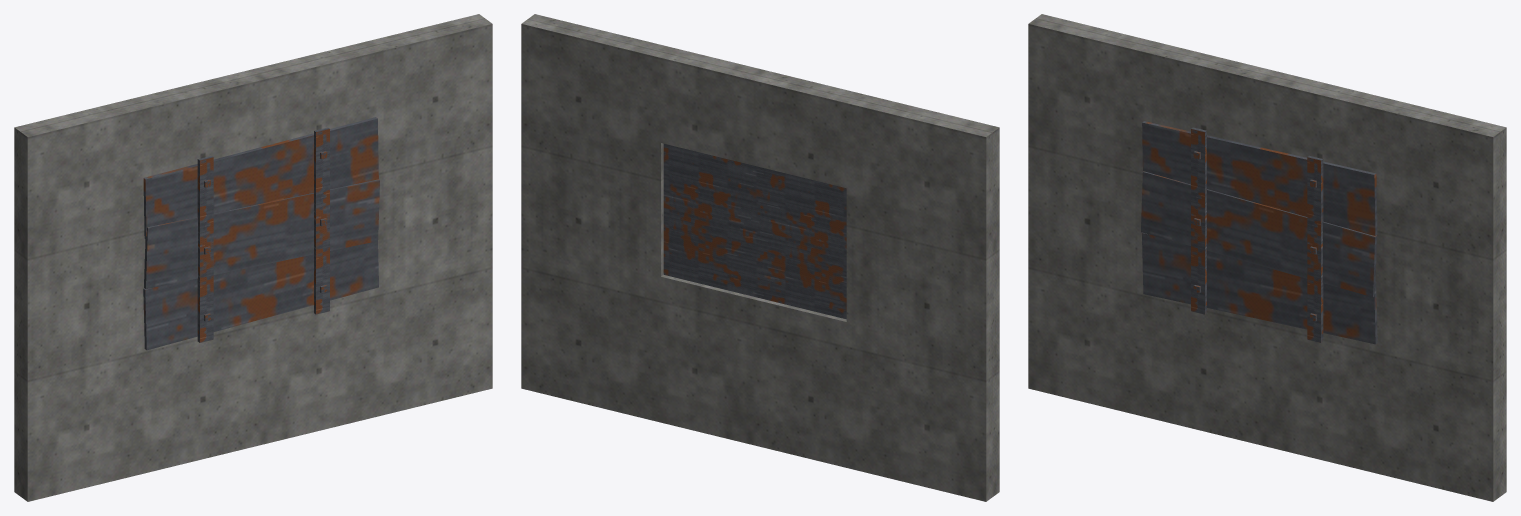
The model's file is Wall_Window_Barricaded.fbx.
3 renders of one model, left to right at view 1: azimuth 30°, elevation 25°; view 2: azimuth 150°, elevation 25°; view 3: azimuth 330°, elevation 25°, orthographic.
Visible parts, largest first — view 1: Wall_Window_Barricaded; view 2: Wall_Window_Barricaded; view 3: Wall_Window_Barricaded.
Part boxes in pixels (x1,y1,x2,y2): Wall_Window_Barricaded: (14,14,492,501); Wall_Window_Barricaded: (521,14,999,501); Wall_Window_Barricaded: (1028,14,1506,501).
Size of the model in its own units: 4 by 3 by 0.29.
2 materials, 2 textured.
